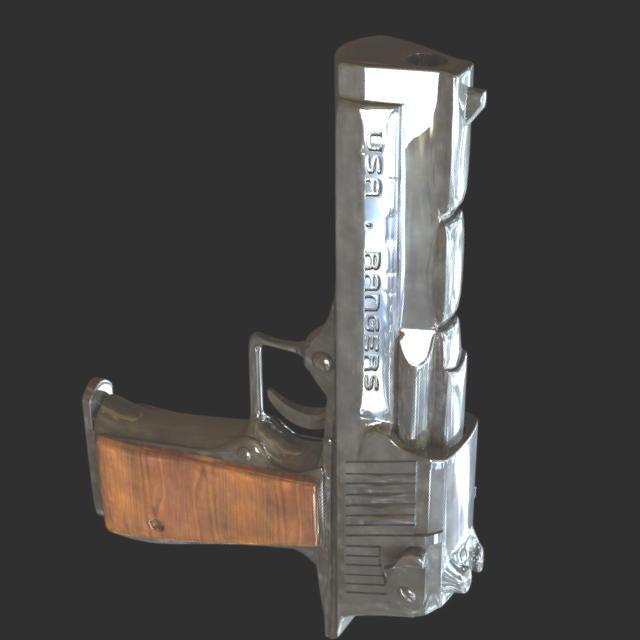handgun: (30, 0, 612, 639)
